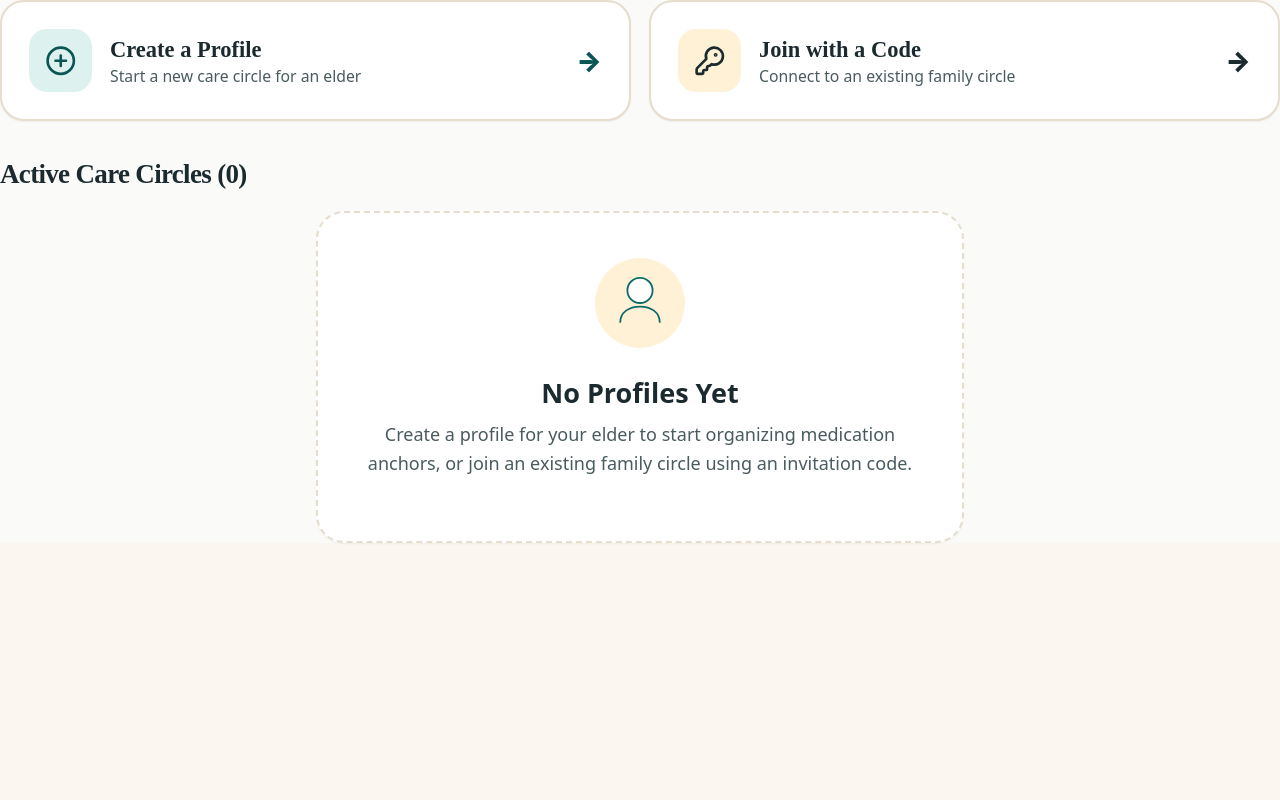
Test case: Care Core Web Features › ProfilePicker › opens create profile modal when button is clicked
The width and height of the screenshot is (1280, 800).
Click the button "Create a Profile Start a new care circle for an elder →" at (60, 60), box [0, 0, 631, 121]
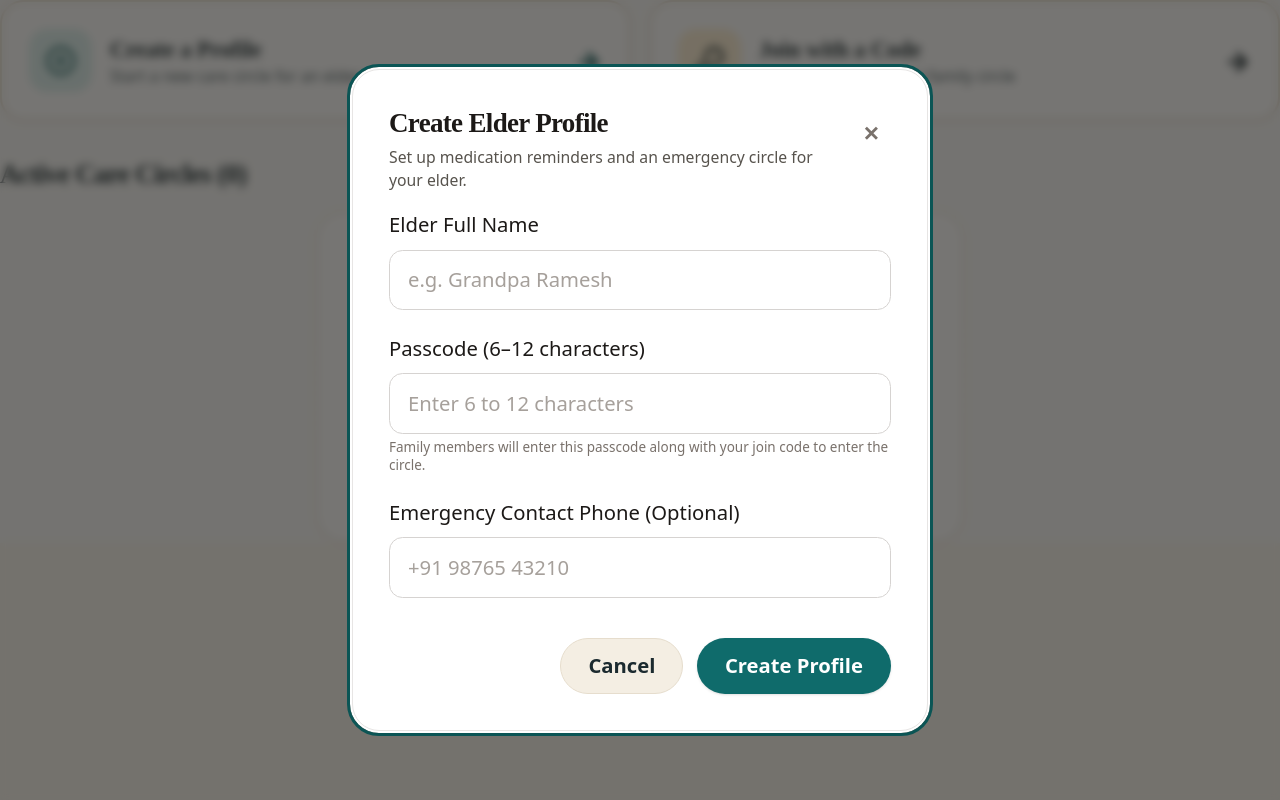
Expected: the heading "Create Elder Profile" is shown, [389, 108, 608, 138]
Expected: the field labelled "Elder Full Name" is shown, [389, 250, 891, 310]
